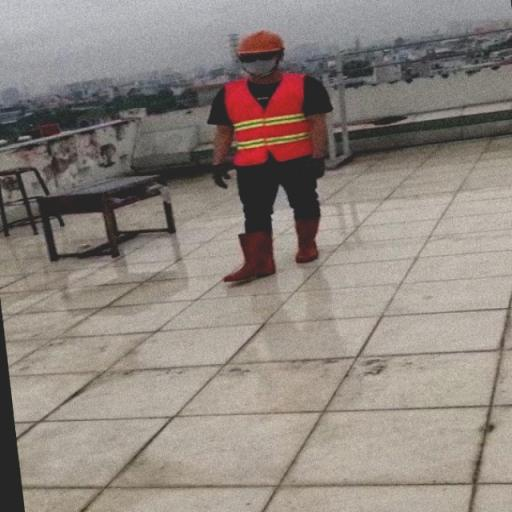Person: (202, 26, 340, 294)
boots: (217, 228, 281, 290), (280, 201, 332, 275)
gloves: (202, 164, 236, 188), (310, 154, 336, 185)
goggles: (235, 50, 286, 61)
helmet: (230, 26, 299, 56)
vest: (223, 67, 318, 181)
